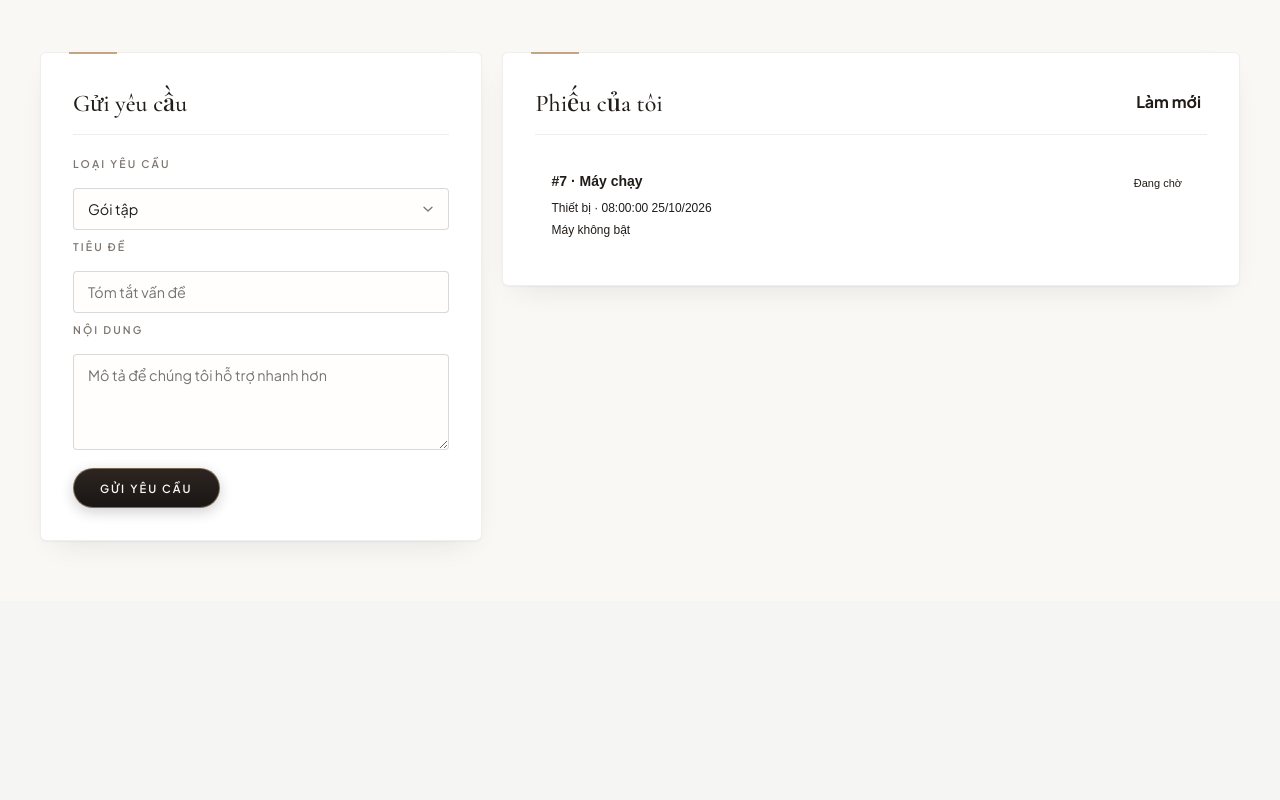
Test: does not overwrite a newer closed state with delayed realtime ticket metadata
Click the button with class "member-support-ticket": (611, 181) 536,157 -> 1207,253
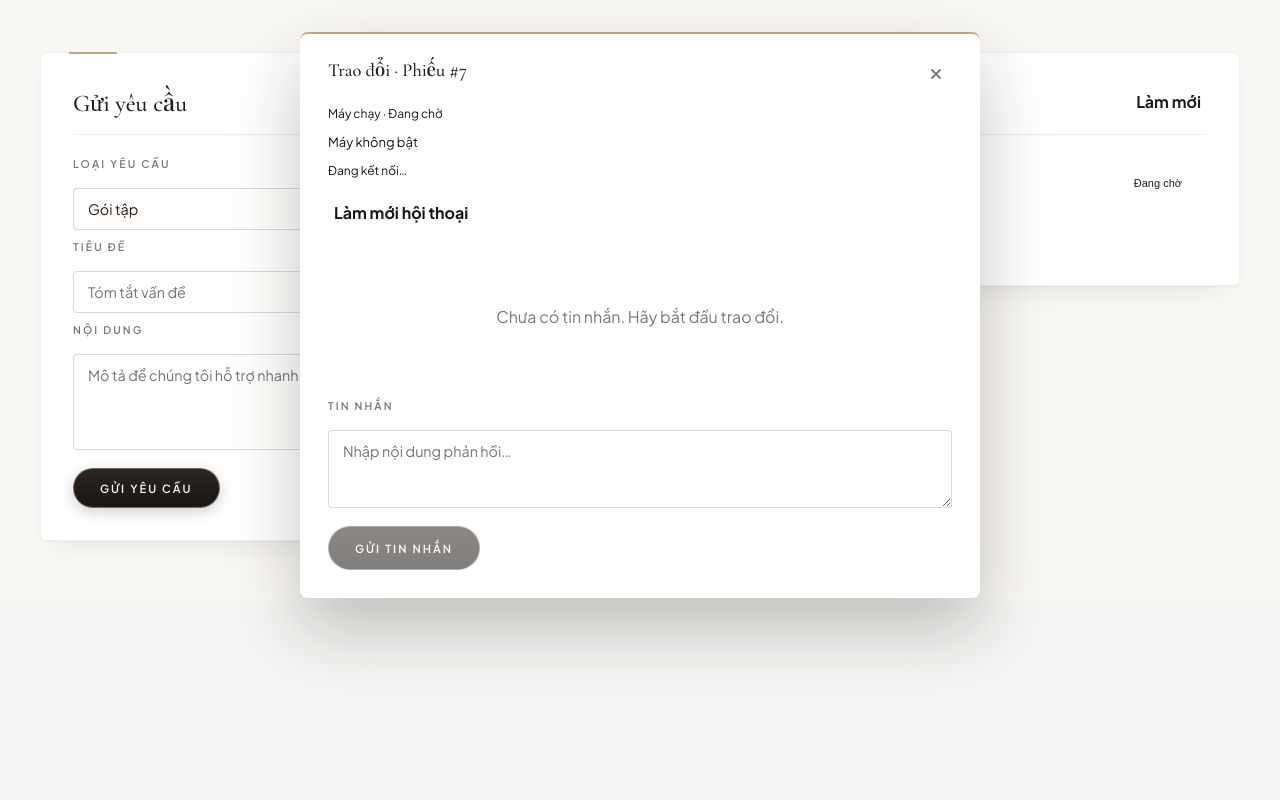
Click the button "Làm mới hội thoại": (401, 212) 328,190 -> 474,234
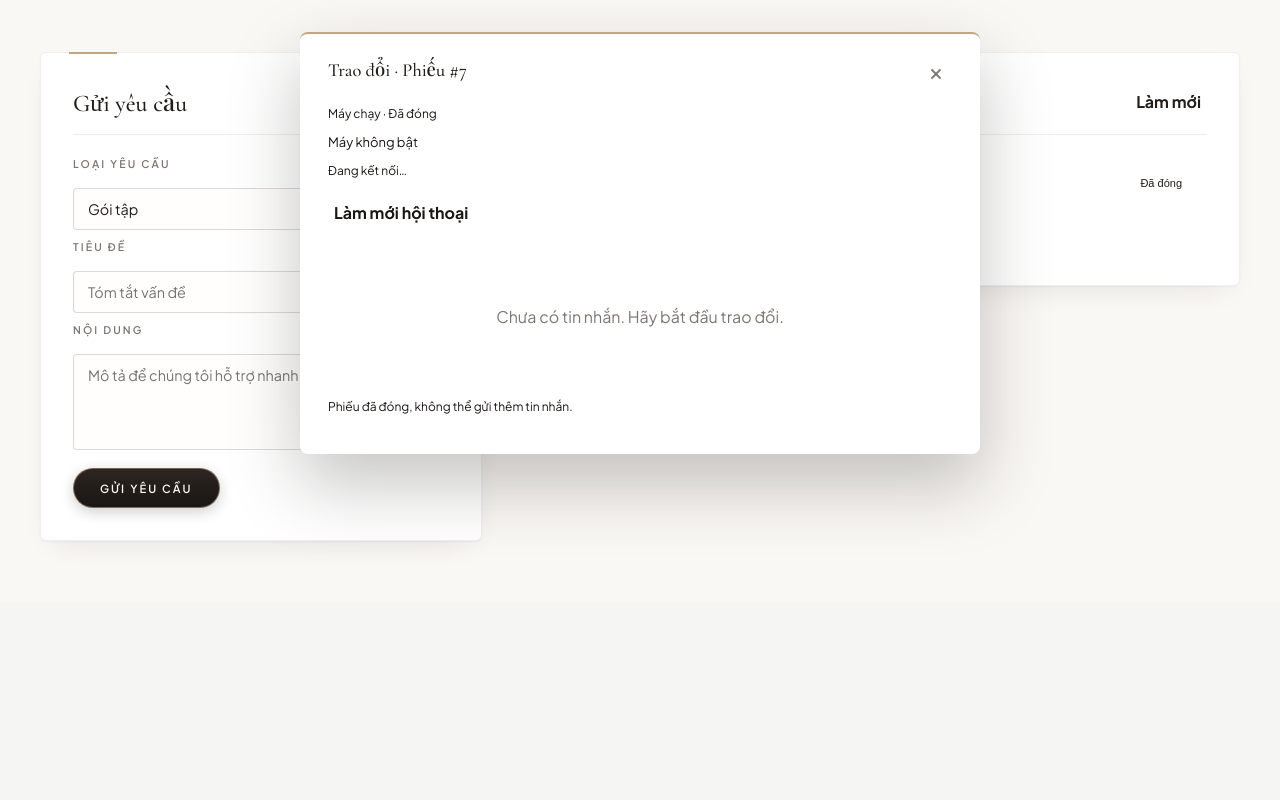
Expected: the form with class "member-support-compose" is gone
